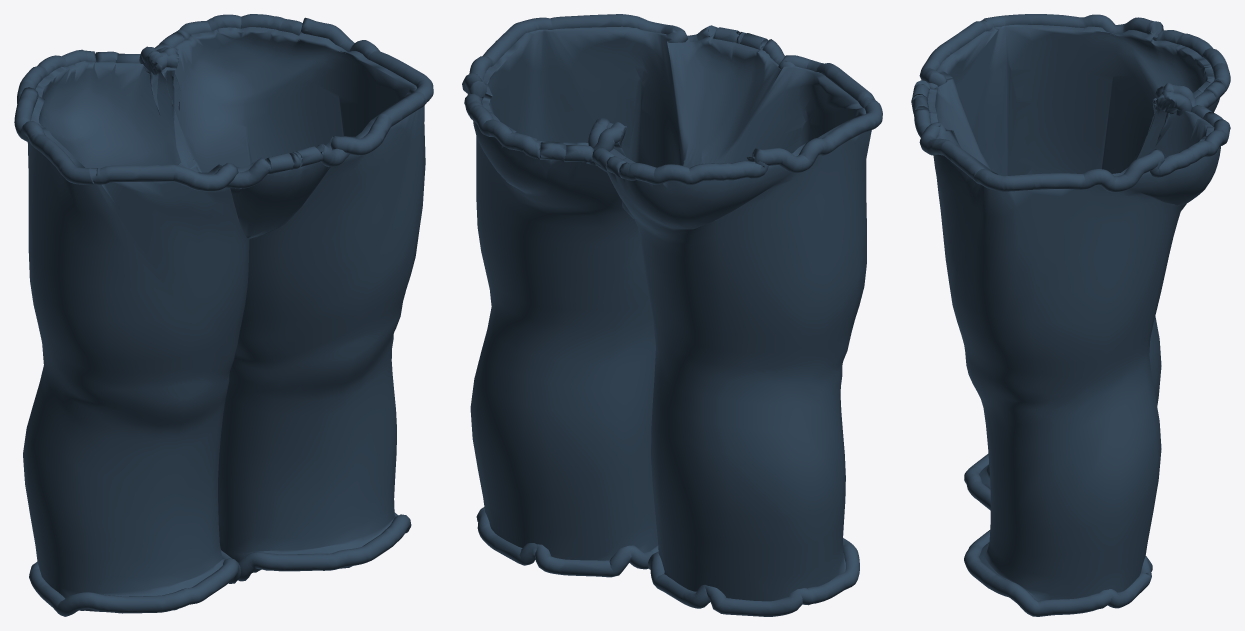
File: 3HT-feminino.glb
3 renders of one model, left to right at view 1: azimuth 30°, elevation 25°; view 2: azimuth 150°, elevation 25°; view 3: azimuth 270°, elevation 25°, orthographic. The views are drawn at different scales.
Parts seen in each view (by area): view 1: fitted-shell, bound-edge (×3); view 2: fitted-shell, bound-edge (×3); view 3: fitted-shell, bound-edge (×3).
Boxes of the visible parts, x1=… form: fitted-shell: x1=23, y1=27, x2=425, y2=611; bound-edge (×3): x1=14, y1=14, x2=433, y2=616; fitted-shell: x1=470, y1=26, x2=871, y2=601; bound-edge (×3): x1=462, y1=14, x2=882, y2=616; fitted-shell: x1=927, y1=24, x2=1220, y2=600; bound-edge (×3): x1=911, y1=14, x2=1230, y2=616.
Size of the model in its own units: 0.0326 by 0.041 by 0.0259.
